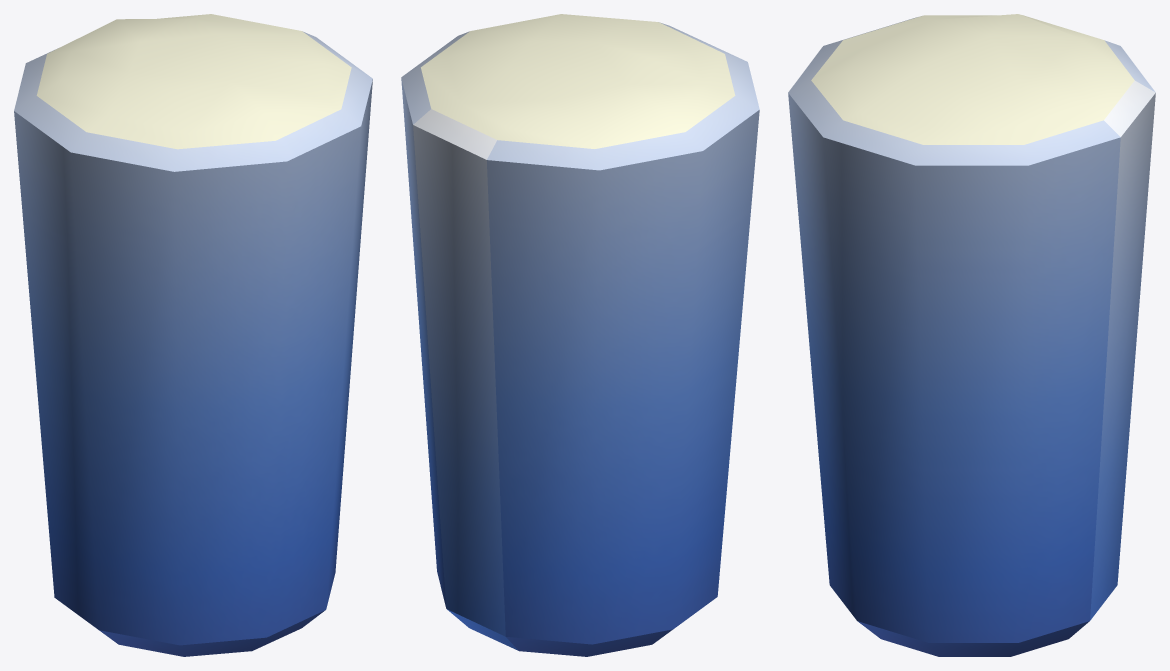
Rendered from m_AmericanPintBeer01.fbx.
3 views of the same model, side by side, from view 1: azimuth 30°, elevation 25°; view 2: azimuth 150°, elevation 25°; view 3: azimuth 270°, elevation 25° (orthographic).
Visible parts, largest first — view 1: m_AmericanPintBeer01; view 2: m_AmericanPintBeer01; view 3: m_AmericanPintBeer01.
Part boxes in pixels (x1,y1,x2,y2): m_AmericanPintBeer01: (14,14,372,656); m_AmericanPintBeer01: (401,14,759,656); m_AmericanPintBeer01: (788,14,1155,656).
Bounding box in the file's own units: 13.11 × 22.64 × 13.78.
